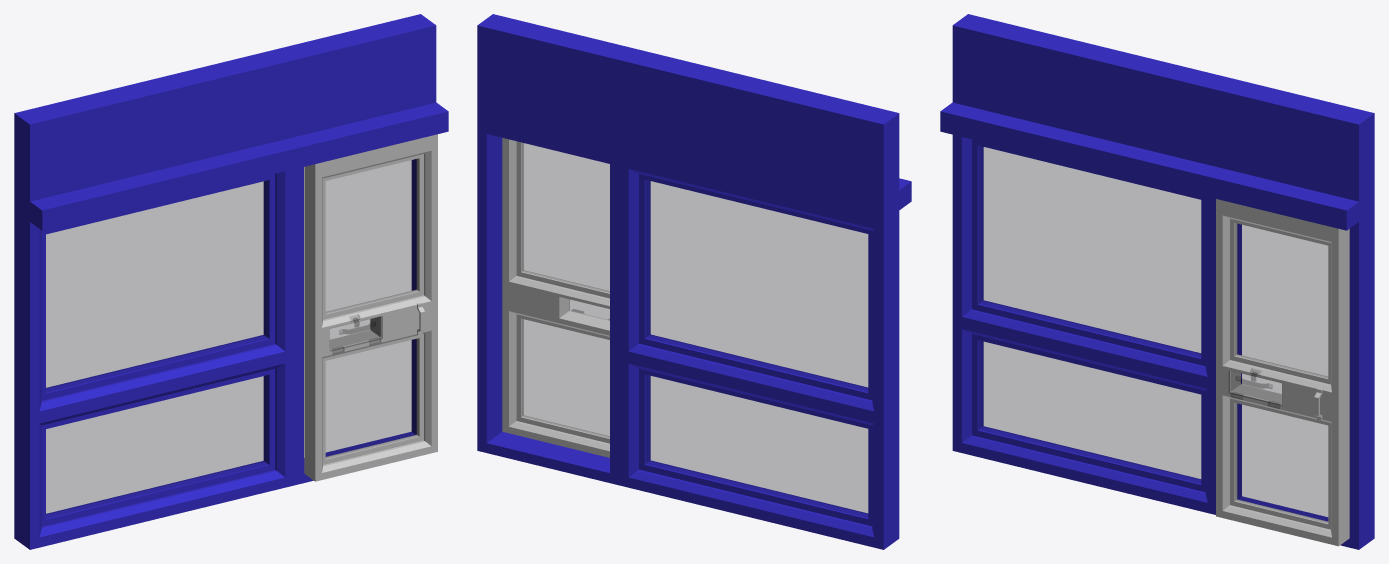
File: SM_transparent_wall.fbx
3 renders of one model, left to right at view 1: azimuth 30°, elevation 25°; view 2: azimuth 150°, elevation 25°; view 3: azimuth 330°, elevation 25°, orthographic.
Parts seen in each view (by area): view 1: transparent_wall, Cube_4, Cylinder_2; view 2: transparent_wall, Cube_4; view 3: transparent_wall, Cube_4, Cylinder_2.
Part boxes in pixels (x1,y1,x2,y2): transparent_wall: [14, 14, 448, 549]; Cube_4: [304, 134, 437, 481]; Cylinder_2: [329, 316, 382, 354]; transparent_wall: [477, 14, 911, 549]; Cube_4: [502, 138, 609, 457]; transparent_wall: [940, 14, 1374, 549]; Cube_4: [1216, 199, 1349, 546]; Cylinder_2: [1229, 371, 1281, 408].
Size of the model in its own units: 300 by 300 by 39.85.
